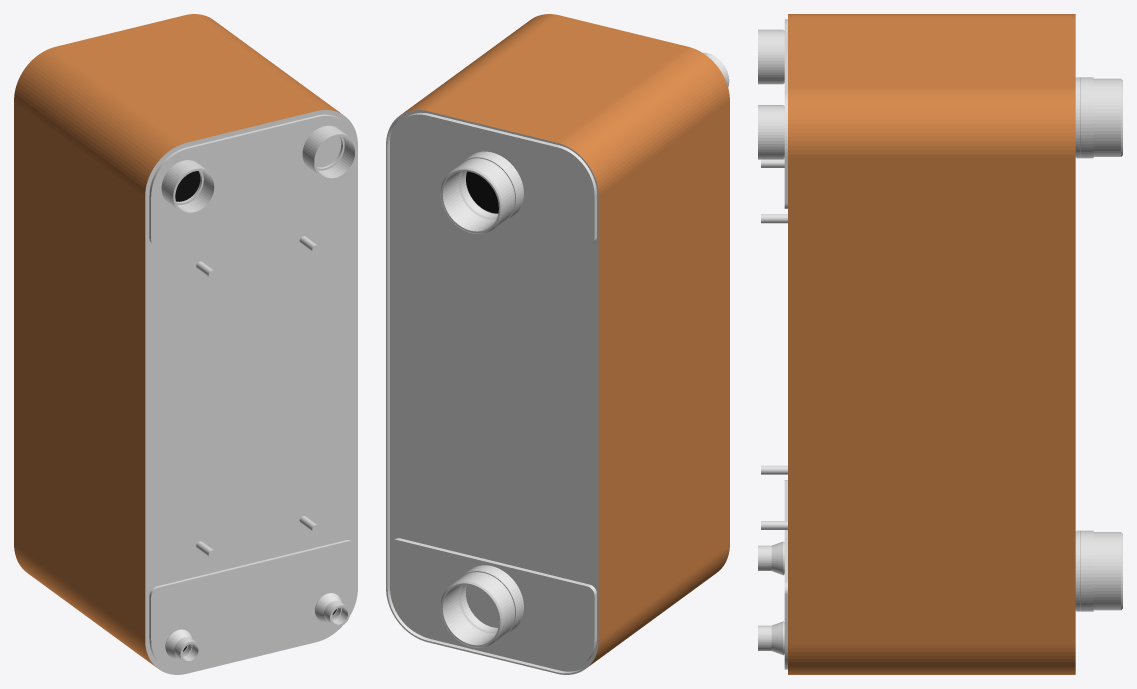
Rendered from MPHE_T24013_123_C212L_150_v03.glb.
3 views of the same model, side by side, from view 1: azimuth 30°, elevation 25°; view 2: azimuth 150°, elevation 25°; view 3: azimuth 270°, elevation 25° (orthographic). The views are drawn at different scales.
Visible parts, largest first — view 1: MPHE_T24013_123_C212L_150, Cylinder; view 2: MPHE_T24013_123_C212L_150, Cylinder.004; view 3: MPHE_T24013_123_C212L_150.
Boxes of the visible parts, <box> form: MPHE_T24013_123_C212L_150: <box>14,14,357,674</box>; Cylinder: <box>175,171,200,201</box>; MPHE_T24013_123_C212L_150: <box>386,14,729,674</box>; Cylinder.004: <box>466,171,498,213</box>; MPHE_T24013_123_C212L_150: <box>758,14,1122,674</box>.
Size of the model in its own units: 3.27 by 7.8 by 4.43.
